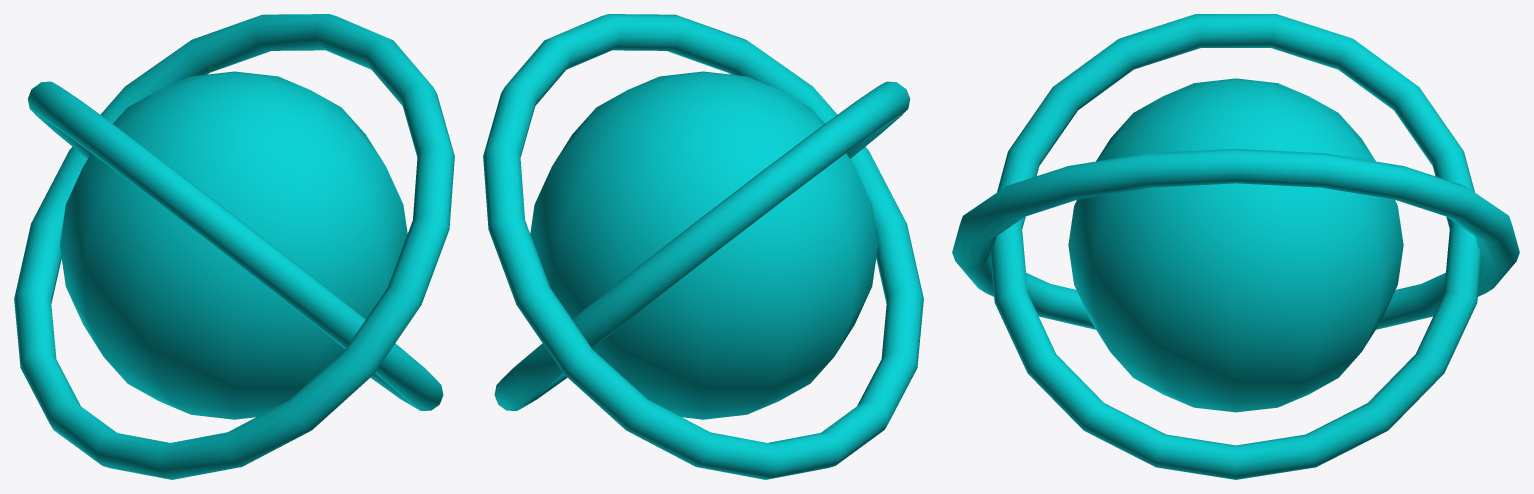
The model's file is Item_Powerup_Futuristic_2.fbx.
3 renders of one model, left to right at view 1: azimuth 30°, elevation 25°; view 2: azimuth 150°, elevation 25°; view 3: azimuth 270°, elevation 25°, orthographic. The views are drawn at different scales.
Parts seen in each view (by area): view 1: Item Powerup Futuristic 2; view 2: Item Powerup Futuristic 2; view 3: Item Powerup Futuristic 2.
Part boxes in pixels (bbox=[...]): Item Powerup Futuristic 2: bbox=[14, 14, 454, 479]; Item Powerup Futuristic 2: bbox=[483, 14, 923, 479]; Item Powerup Futuristic 2: bbox=[952, 14, 1519, 479].
Bounding box in the file's own units: 109 × 110 × 173.
